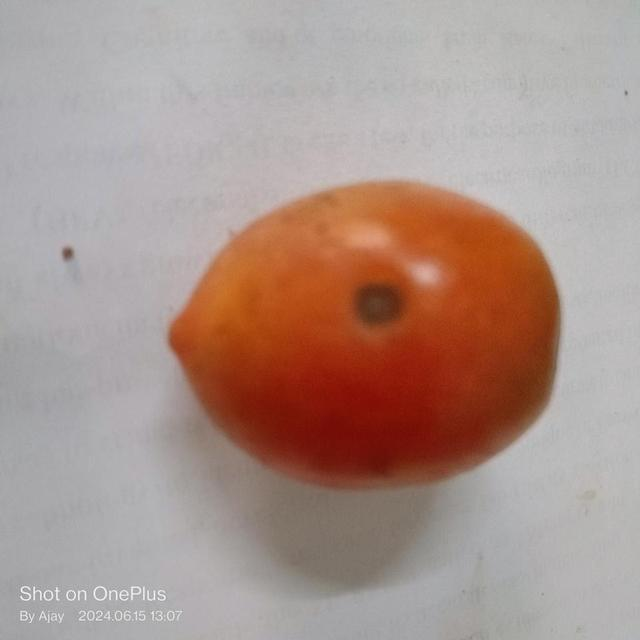Bacterial Spot Fruit: (238, 187, 269, 218)
